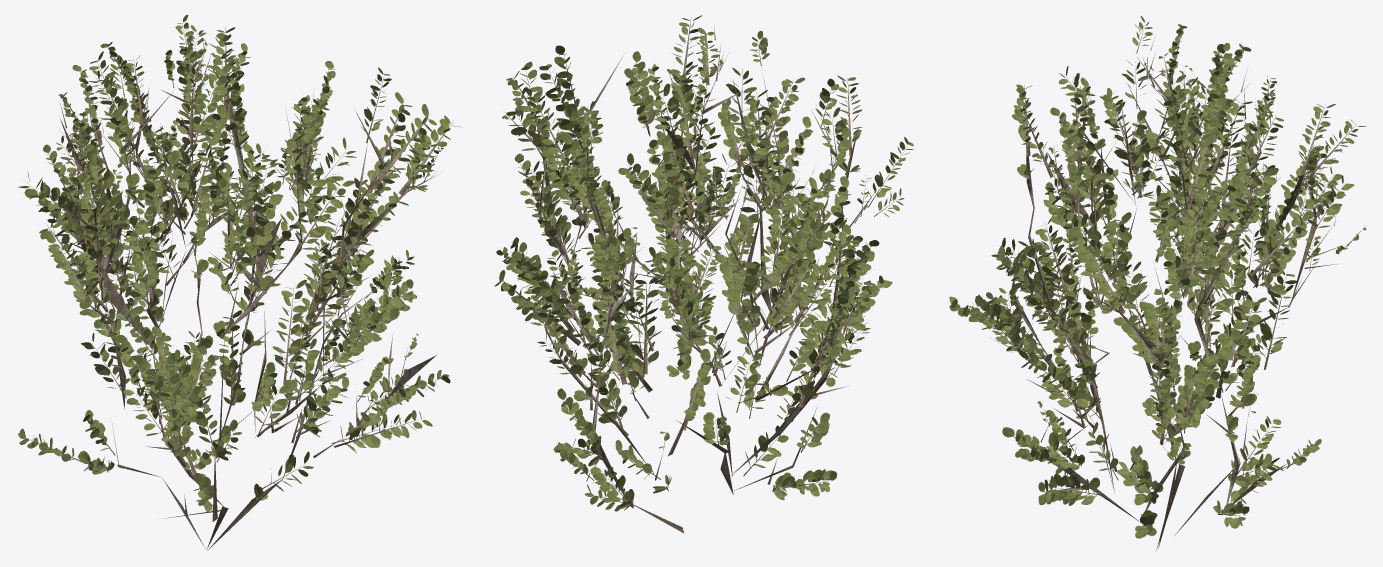
The model's file is searsia_lucida_b.gltf.
3 views of the same model, side by side, from view 1: azimuth 30°, elevation 25°; view 2: azimuth 150°, elevation 25°; view 3: azimuth 270°, elevation 25° (orthographic). The views are drawn at different scales.
Visible parts, largest first — view 1: searsia_lucida_b__x; view 2: searsia_lucida_b__x; view 3: searsia_lucida_b__x.
Part boxes in pixels (<box>): searsia_lucida_b__x: <box>18,15,461,550</box>; searsia_lucida_b__x: <box>494,15,913,533</box>; searsia_lucida_b__x: <box>948,16,1366,550</box>.
Size of the model in its own units: 1.51 by 1.99 by 1.46.
2 materials, 2 textured.
